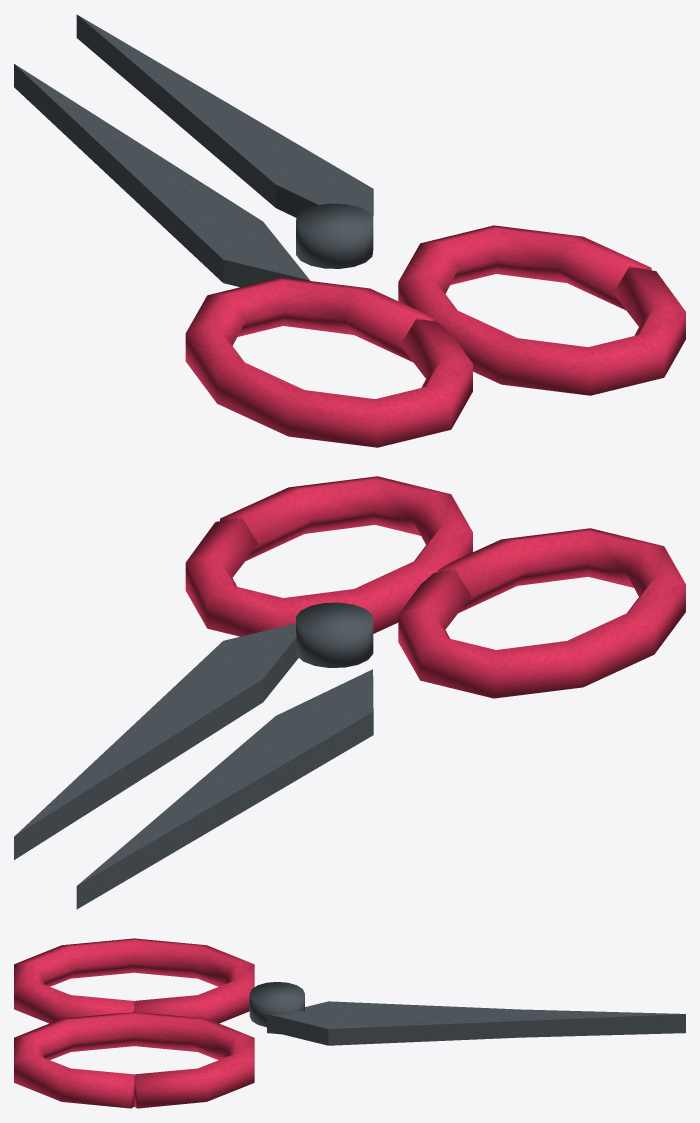
File: FloralSnips.gltf
3 views of the same model, one above another, from view 1: azimuth 30°, elevation 25°; view 2: azimuth 150°, elevation 25°; view 3: azimuth 270°, elevation 25° (orthographic). The views are drawn at different scales.
Parts seen in each view (by area): view 1: FloralSnips__Body; view 2: FloralSnips__Body; view 3: FloralSnips__Body.
Part boxes in pixels (x1=…): FloralSnips__Body: x1=14, y1=14, x2=685, y2=447; FloralSnips__Body: x1=14, y1=476, x2=685, y2=909; FloralSnips__Body: x1=14, y1=938, x2=685, y2=1108.
Size of the model in its own units: 0.0977 by 0.0153 by 0.1842.
Materials: 1 (1 with a texture image).
